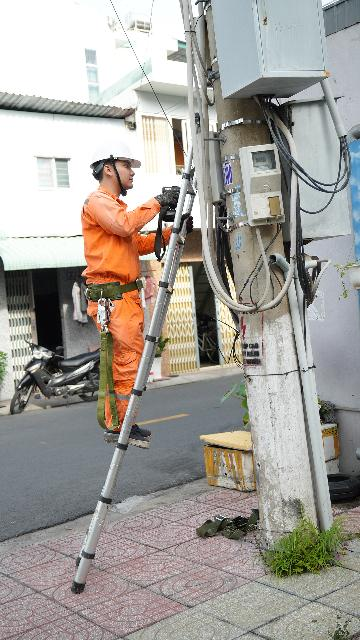gloves: (148, 184, 191, 208), (165, 212, 199, 232)
harness: (71, 269, 159, 316)
helmet: (75, 139, 158, 182)
shoes: (102, 405, 166, 456)
